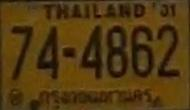2: (156, 23, 177, 76)
4: (36, 25, 58, 78), (80, 24, 101, 78)
6: (130, 24, 152, 76)
7: (10, 25, 32, 78)
8: (106, 25, 126, 76)
BKK: (34, 85, 155, 107)
